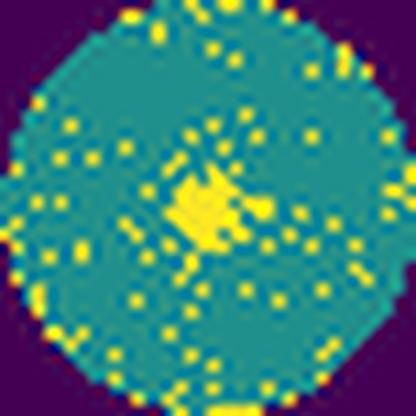Center: (173, 163, 281, 255)
